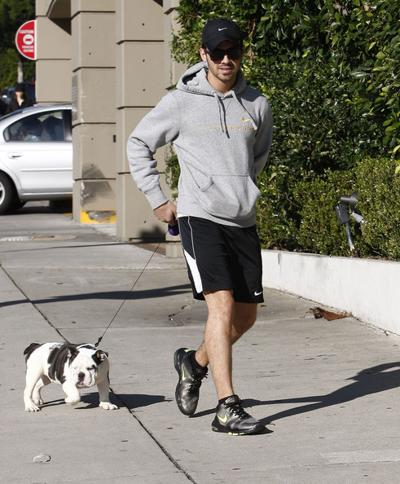person: (127, 15, 268, 436)
